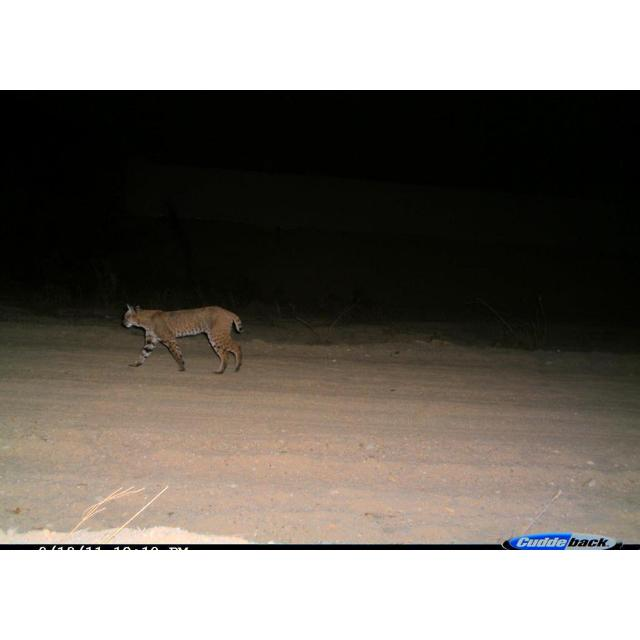animals: (120, 300, 246, 376)
